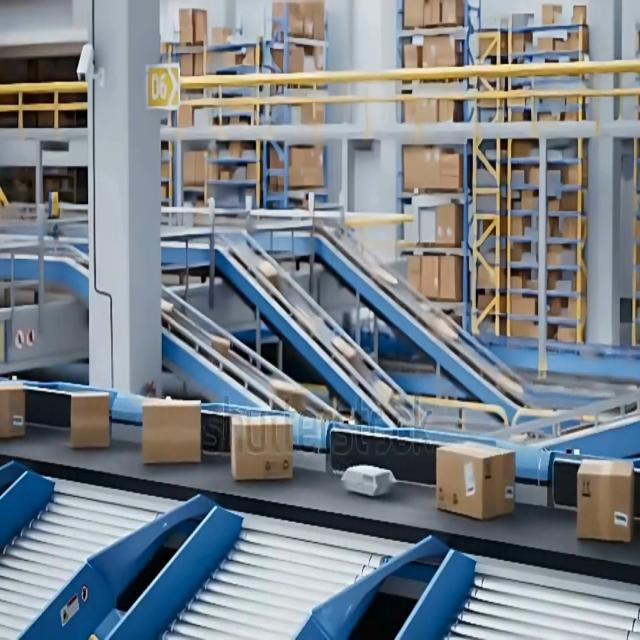product 1: (230, 414, 294, 481), (141, 397, 201, 465), (435, 440, 478, 520), (81, 392, 110, 448)
product 2: (340, 464, 396, 496)
